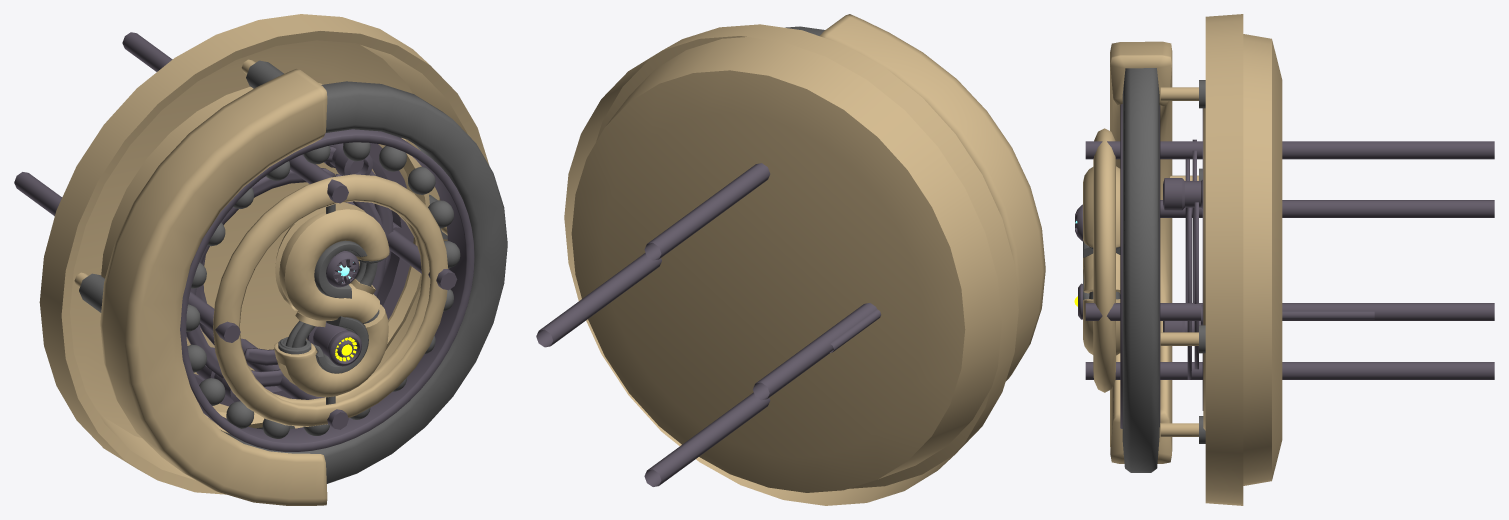
The model's file is Mesh_Hourglass.fbx.
The picture shows the model from 3 angles, left to right: view 1: azimuth 30°, elevation 25°; view 2: azimuth 150°, elevation 25°; view 3: azimuth 270°, elevation 25°; orthographic projection. The views are drawn at different scales.
Visible parts, largest first — view 1: Base, Barrel_Support_Deco, Barrel_Support, Hourglass_Support, Barrel, Hourglass, Circle_Support, Hourglass_Yellow_Tube, Circle_Down_Left, Circle_Down_Right, Circle_Up_Right, Hourglass_Green_Tube; view 2: Base, Barrel_Support_Deco, Hourglass_Support, Circle_Support; view 3: Base, Hourglass_Support, Barrel_Support, Barrel_Support_Deco, Circle_Support, Hourglass, Barrel, Circle_Down_Right, Circle_Up_Right.
Part boxes in pixels (box(x1,y1,x2,y2)): Base: box(39, 14, 489, 494); Barrel_Support_Deco: box(100, 69, 327, 505); Barrel_Support: box(74, 59, 507, 483); Hourglass_Support: box(14, 32, 457, 429); Barrel: box(180, 129, 474, 451); Hourglass: box(274, 202, 389, 404); Circle_Support: box(194, 143, 413, 406); Hourglass_Yellow_Tube: box(307, 322, 361, 366); Circle_Down_Left: box(186, 168, 335, 378); Circle_Down_Right: box(251, 174, 386, 386); Circle_Up_Right: box(244, 170, 393, 365); Hourglass_Green_Tube: box(326, 250, 359, 287); Base: box(564, 24, 1018, 505); Barrel_Support_Deco: box(820, 14, 1045, 380); Hourglass_Support: box(536, 163, 876, 486); Circle_Support: box(830, 309, 881, 352); Base: box(1205, 14, 1282, 505); Hourglass_Support: box(1085, 128, 1494, 392); Barrel_Support: box(1122, 68, 1205, 472); Barrel_Support_Deco: box(1110, 41, 1172, 463); Circle_Support: box(1163, 108, 1374, 410); Hourglass: box(1083, 166, 1120, 355); Barrel: box(1120, 104, 1160, 428); Circle_Down_Right: box(1187, 207, 1191, 379); Circle_Up_Right: box(1194, 202, 1198, 369).
Size of the model in its own units: 1.95 by 1.66 by 1.95.
